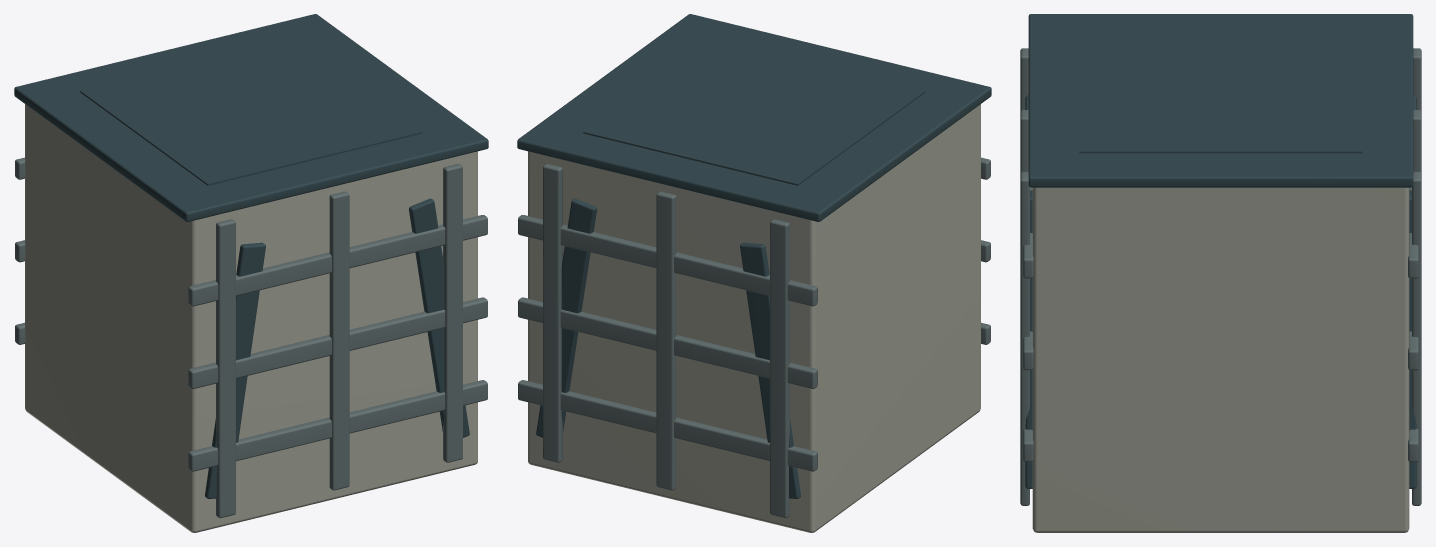
File: abutment-top-1.glb
3 views of the same model, side by side, from view 1: azimuth 30°, elevation 25°; view 2: azimuth 150°, elevation 25°; view 3: azimuth 270°, elevation 25° (orthographic). The views are drawn at different scales.
Parts seen in each view (by area): view 1: abutment_1, abutment_2, abutment_0; view 2: abutment_1, abutment_2, abutment_0; view 3: abutment_1, abutment_2, abutment_0.
Boxes of the visible parts, left/top/right/bottom form: abutment_1: left=25, top=104, right=477, bottom=532; abutment_2: left=14, top=14, right=488, bottom=498; abutment_0: left=15, top=157, right=487, bottom=518; abutment_1: left=528, top=104, right=980, bottom=532; abutment_2: left=517, top=14, right=991, bottom=498; abutment_0: left=518, top=157, right=990, bottom=518; abutment_1: left=1032, top=187, right=1409, bottom=532; abutment_2: left=1025, top=14, right=1416, bottom=488; abutment_0: left=1020, top=48, right=1421, bottom=505.
Size of the model in its own units: 0.96 by 1 by 0.99.
